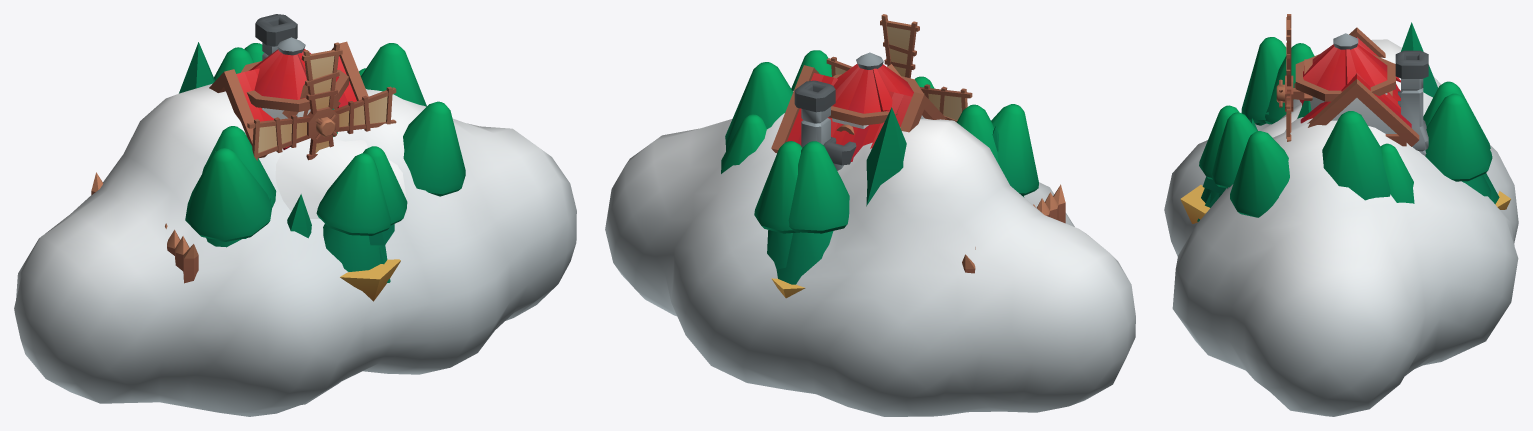
Rendered from medieval.glb.
The picture shows the model from 3 angles, left to right: view 1: azimuth 30°, elevation 25°; view 2: azimuth 150°, elevation 25°; view 3: azimuth 270°, elevation 25°; orthographic projection. The views are drawn at different scales.
Parts seen in each view (by area): view 1: cloud_big, trees_B_large, building_windmill_top_fan_red, trees_B_medium, building_home_B_red, cloud_small, building_windmill_top_red, trees_A_medium, building_grain, fence_wood_straight; view 2: cloud_big, trees_B_large, trees_B_medium, building_home_B_red, building_windmill_top_red, building_windmill_top_fan_red, trees_A_medium, fence_wood_straight, building_home_A_red; view 3: cloud_big, trees_B_medium, trees_B_large, building_home_B_red, building_windmill_top_red, trees_A_medium, building_windmill_top_fan_red, building_grain, cloud_small.
Boxes of the visible parts, left/top/right/bottom form: cloud_big: left=14, top=83, right=576, bottom=416; trees_B_large: left=185, top=47, right=465, bottom=271; building_windmill_top_fan_red: left=247, top=42, right=396, bottom=160; trees_B_medium: left=202, top=43, right=426, bottom=225; building_home_B_red: left=209, top=14, right=368, bottom=158; cloud_small: left=275, top=139, right=406, bottom=404; building_windmill_top_red: left=240, top=37, right=348, bottom=119; trees_A_medium: left=179, top=42, right=394, bottom=282; building_grain: left=340, top=259, right=400, bottom=301; fence_wood_straight: left=91, top=172, right=198, bottom=283; cloud_big: left=605, top=91, right=1135, bottom=416; trees_B_large: left=721, top=50, right=1038, bottom=284; trees_B_medium: left=725, top=62, right=998, bottom=269; building_home_B_red: left=771, top=64, right=947, bottom=161; building_windmill_top_red: left=829, top=52, right=923, bottom=134; building_windmill_top_fan_red: left=826, top=14, right=972, bottom=121; trees_A_medium: left=866, top=107, right=998, bottom=206; fence_wood_straight: left=962, top=184, right=1065, bottom=273; building_home_A_red: left=823, top=137, right=856, bottom=170; cloud_big: left=1164, top=39, right=1518, bottom=416; trees_B_medium: left=1212, top=43, right=1492, bottom=200; trees_B_large: left=1199, top=37, right=1499, bottom=217; building_home_B_red: left=1294, top=27, right=1428, bottom=155; building_windmill_top_red: left=1293, top=33, right=1395, bottom=110; trees_A_medium: left=1197, top=22, right=1437, bottom=221; building_windmill_top_fan_red: left=1276, top=14, right=1293, bottom=141; building_grain: left=1180, top=185, right=1510, bottom=223; cloud_small: left=1227, top=104, right=1301, bottom=189.
Size of the model in its own units: 3.61 by 2.37 by 2.24.
1 material, 1 textured.
